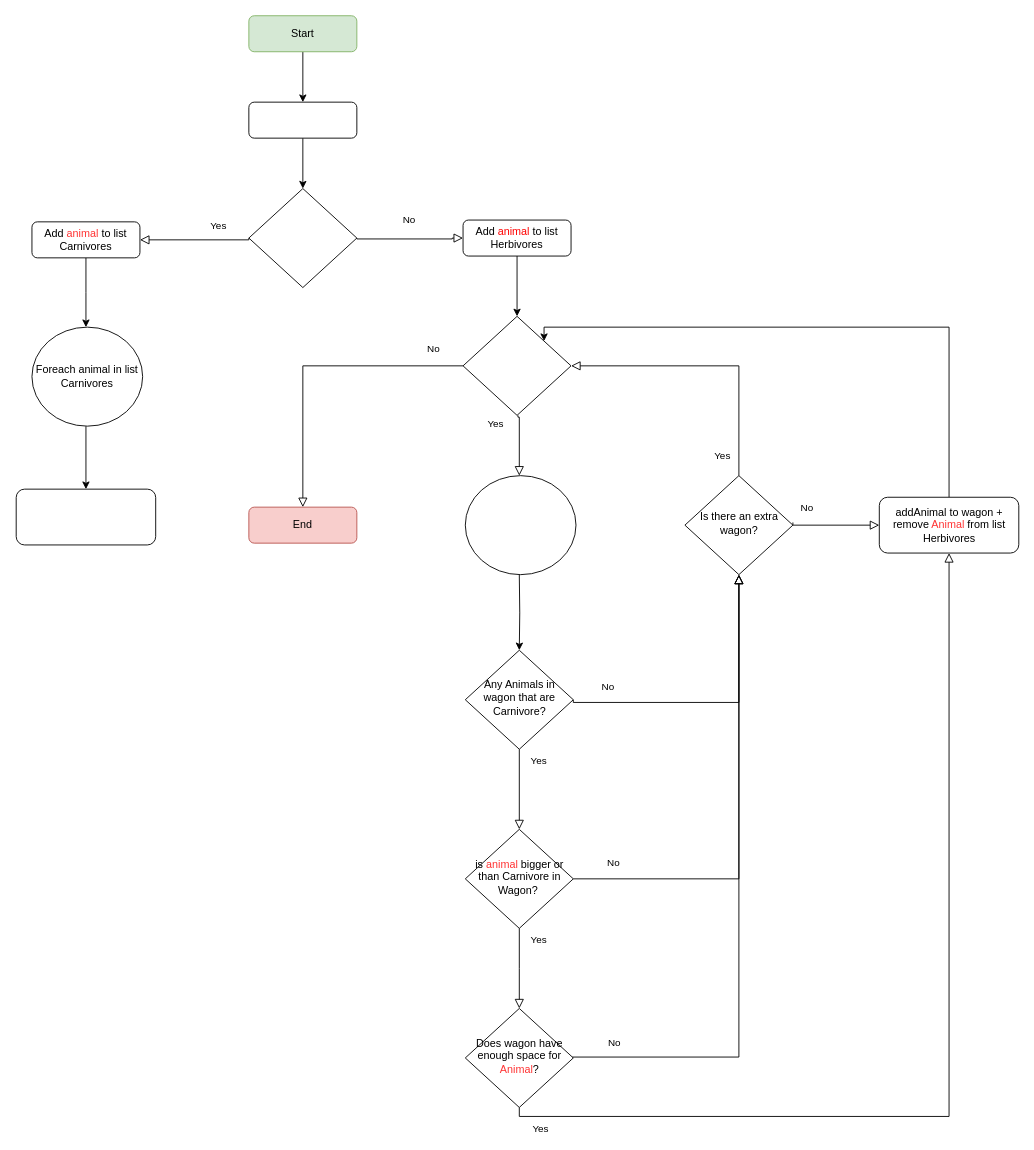
Some shapes in this 1034 by 1150 pixel diagram are drawn without their labels. Each missing label, with the centre of its shape:
Add animals to list animals: the point at 302,119
addAnimal to wagon + remove Animal from list Carnivores: the point at 85,516
Any Herbivores in list Herbivores?: the point at 516,365
Foreach animal in list Herbivores: the point at 520,525
Is animal in list animals a carnivore?: the point at 302,238
